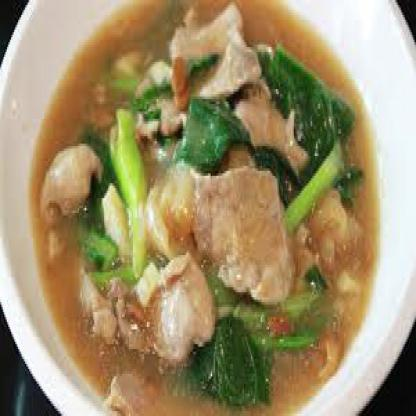Laadna: (32, 10, 386, 406)
